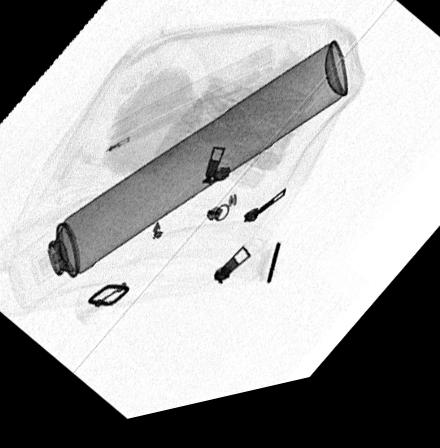Sprayer: (7, 55, 348, 307)
